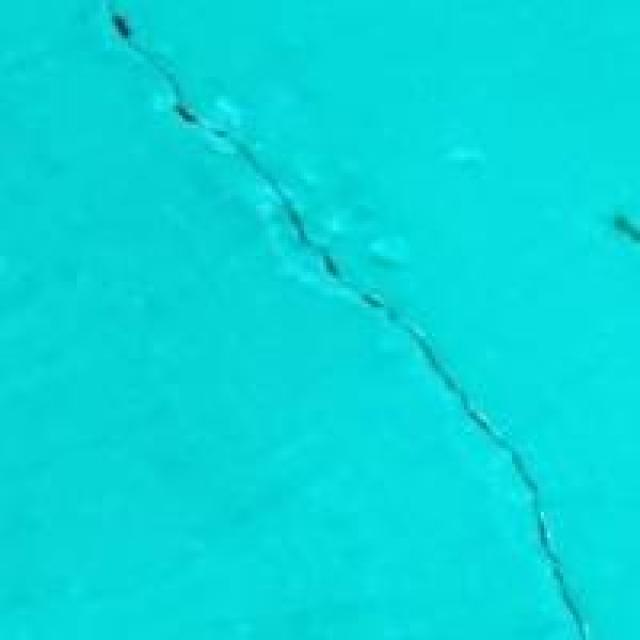Crack: (123, 10, 584, 572)
